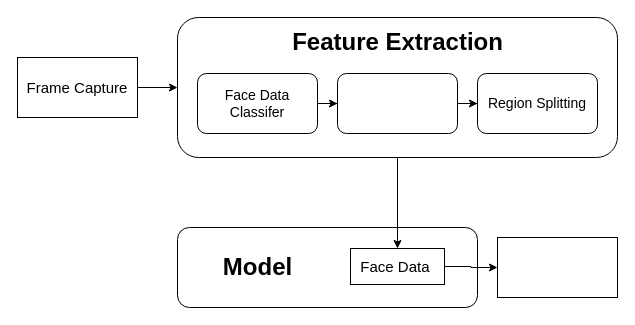
The diagram is 635 pixels wide and 325 high, and some of its shapes have lost their labels. The centre of each missing label's shape, as x and y in pixels:
"Emotion Classification" goes at (557,267).
"Face Identification" goes at (397,103).
